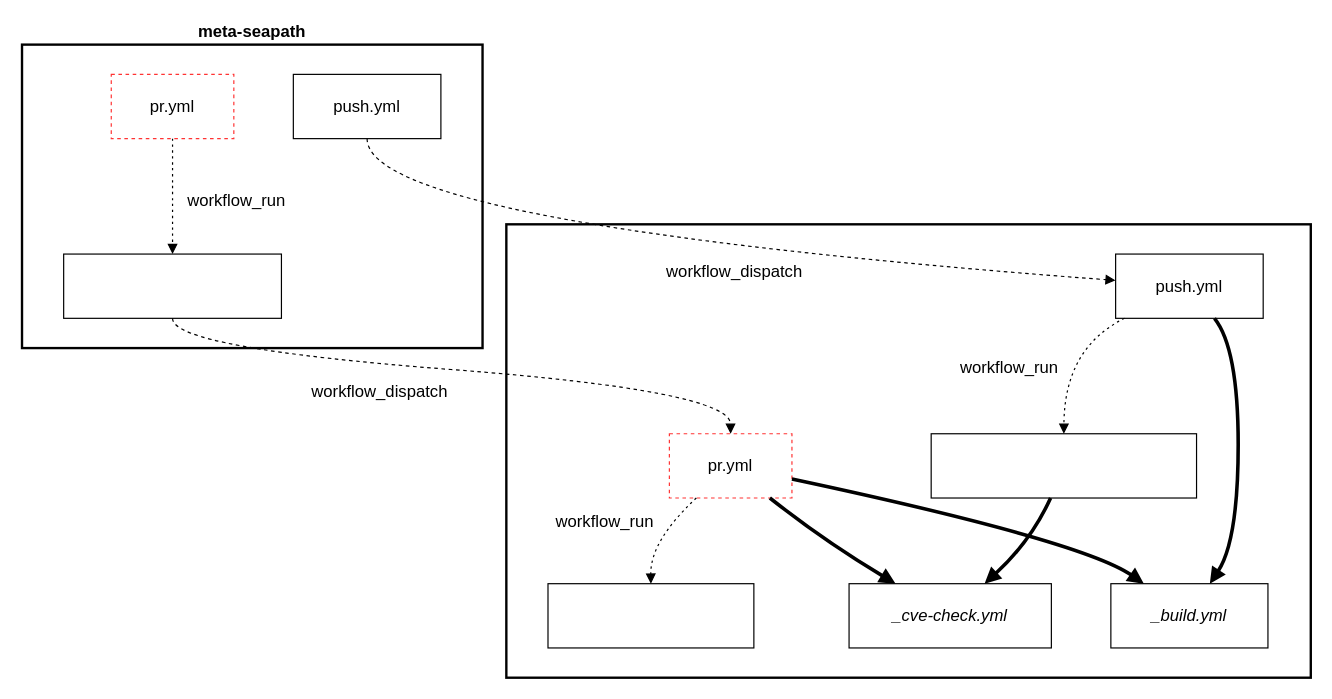
Some shapes in this 1332 by 699 pixel diagram are drawn without their labels. Here are the shapes that lost their labels. From the top down, the box of each, then its label:
(62, 253, 281, 318): pr-delegation.yml
(505, 223, 1311, 678): yocto-bsp
(930, 433, 1197, 498): periodic-cve-check.yml
(547, 583, 754, 648): pr-summary.yml
